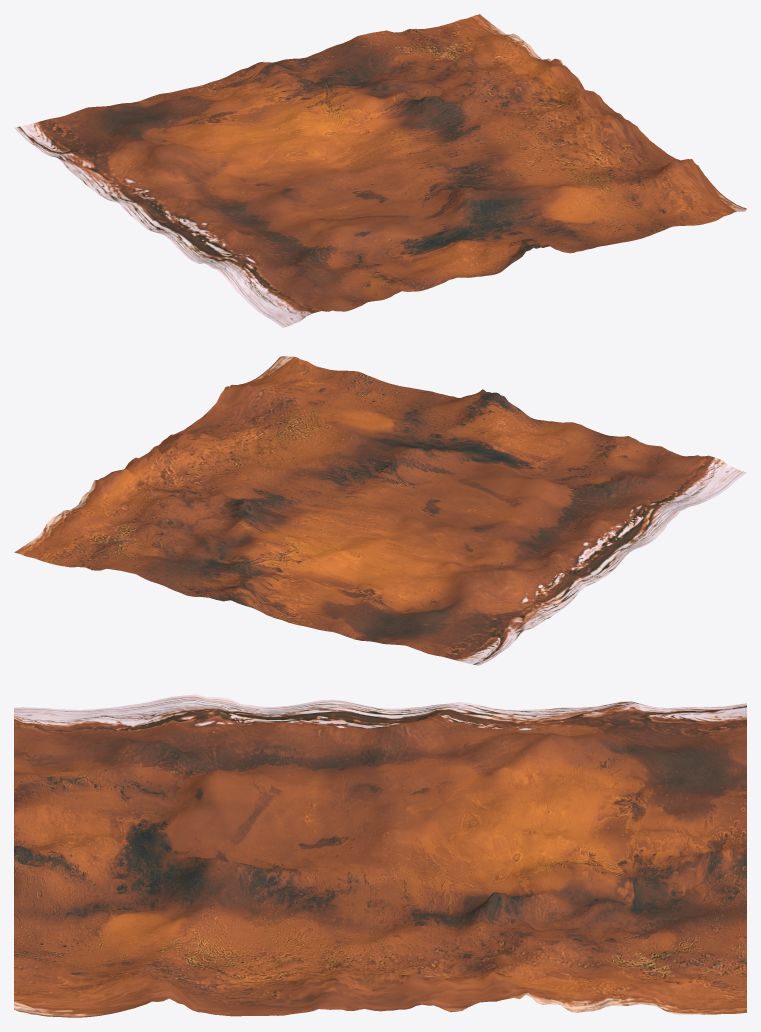
The model's file is BaseLandScape.fbx.
3 renders of one model, top to bottom at view 1: azimuth 30°, elevation 25°; view 2: azimuth 150°, elevation 25°; view 3: azimuth 270°, elevation 25°, orthographic. The views are drawn at different scales.
Parts seen in each view (by area): view 1: Landscape; view 2: Landscape; view 3: Landscape.
Boxes of the visible parts, x1=… form: Landscape: x1=14, y1=14, x2=746, y2=327; Landscape: x1=14, y1=356, x2=746, y2=665; Landscape: x1=14, y1=694, x2=746, y2=1017.
Size of the model in its own units: 2000 by 105 by 2000.
